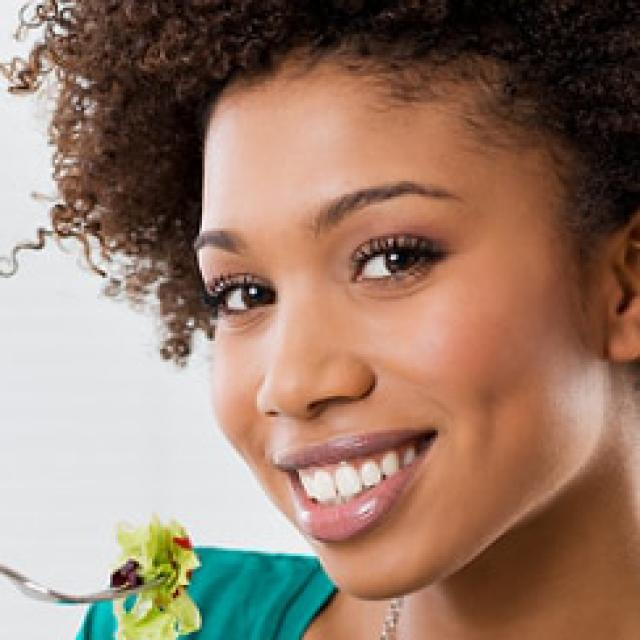Normal: (200, 51, 613, 603)
